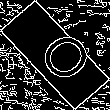O_SW: (20, 22, 90, 88)
